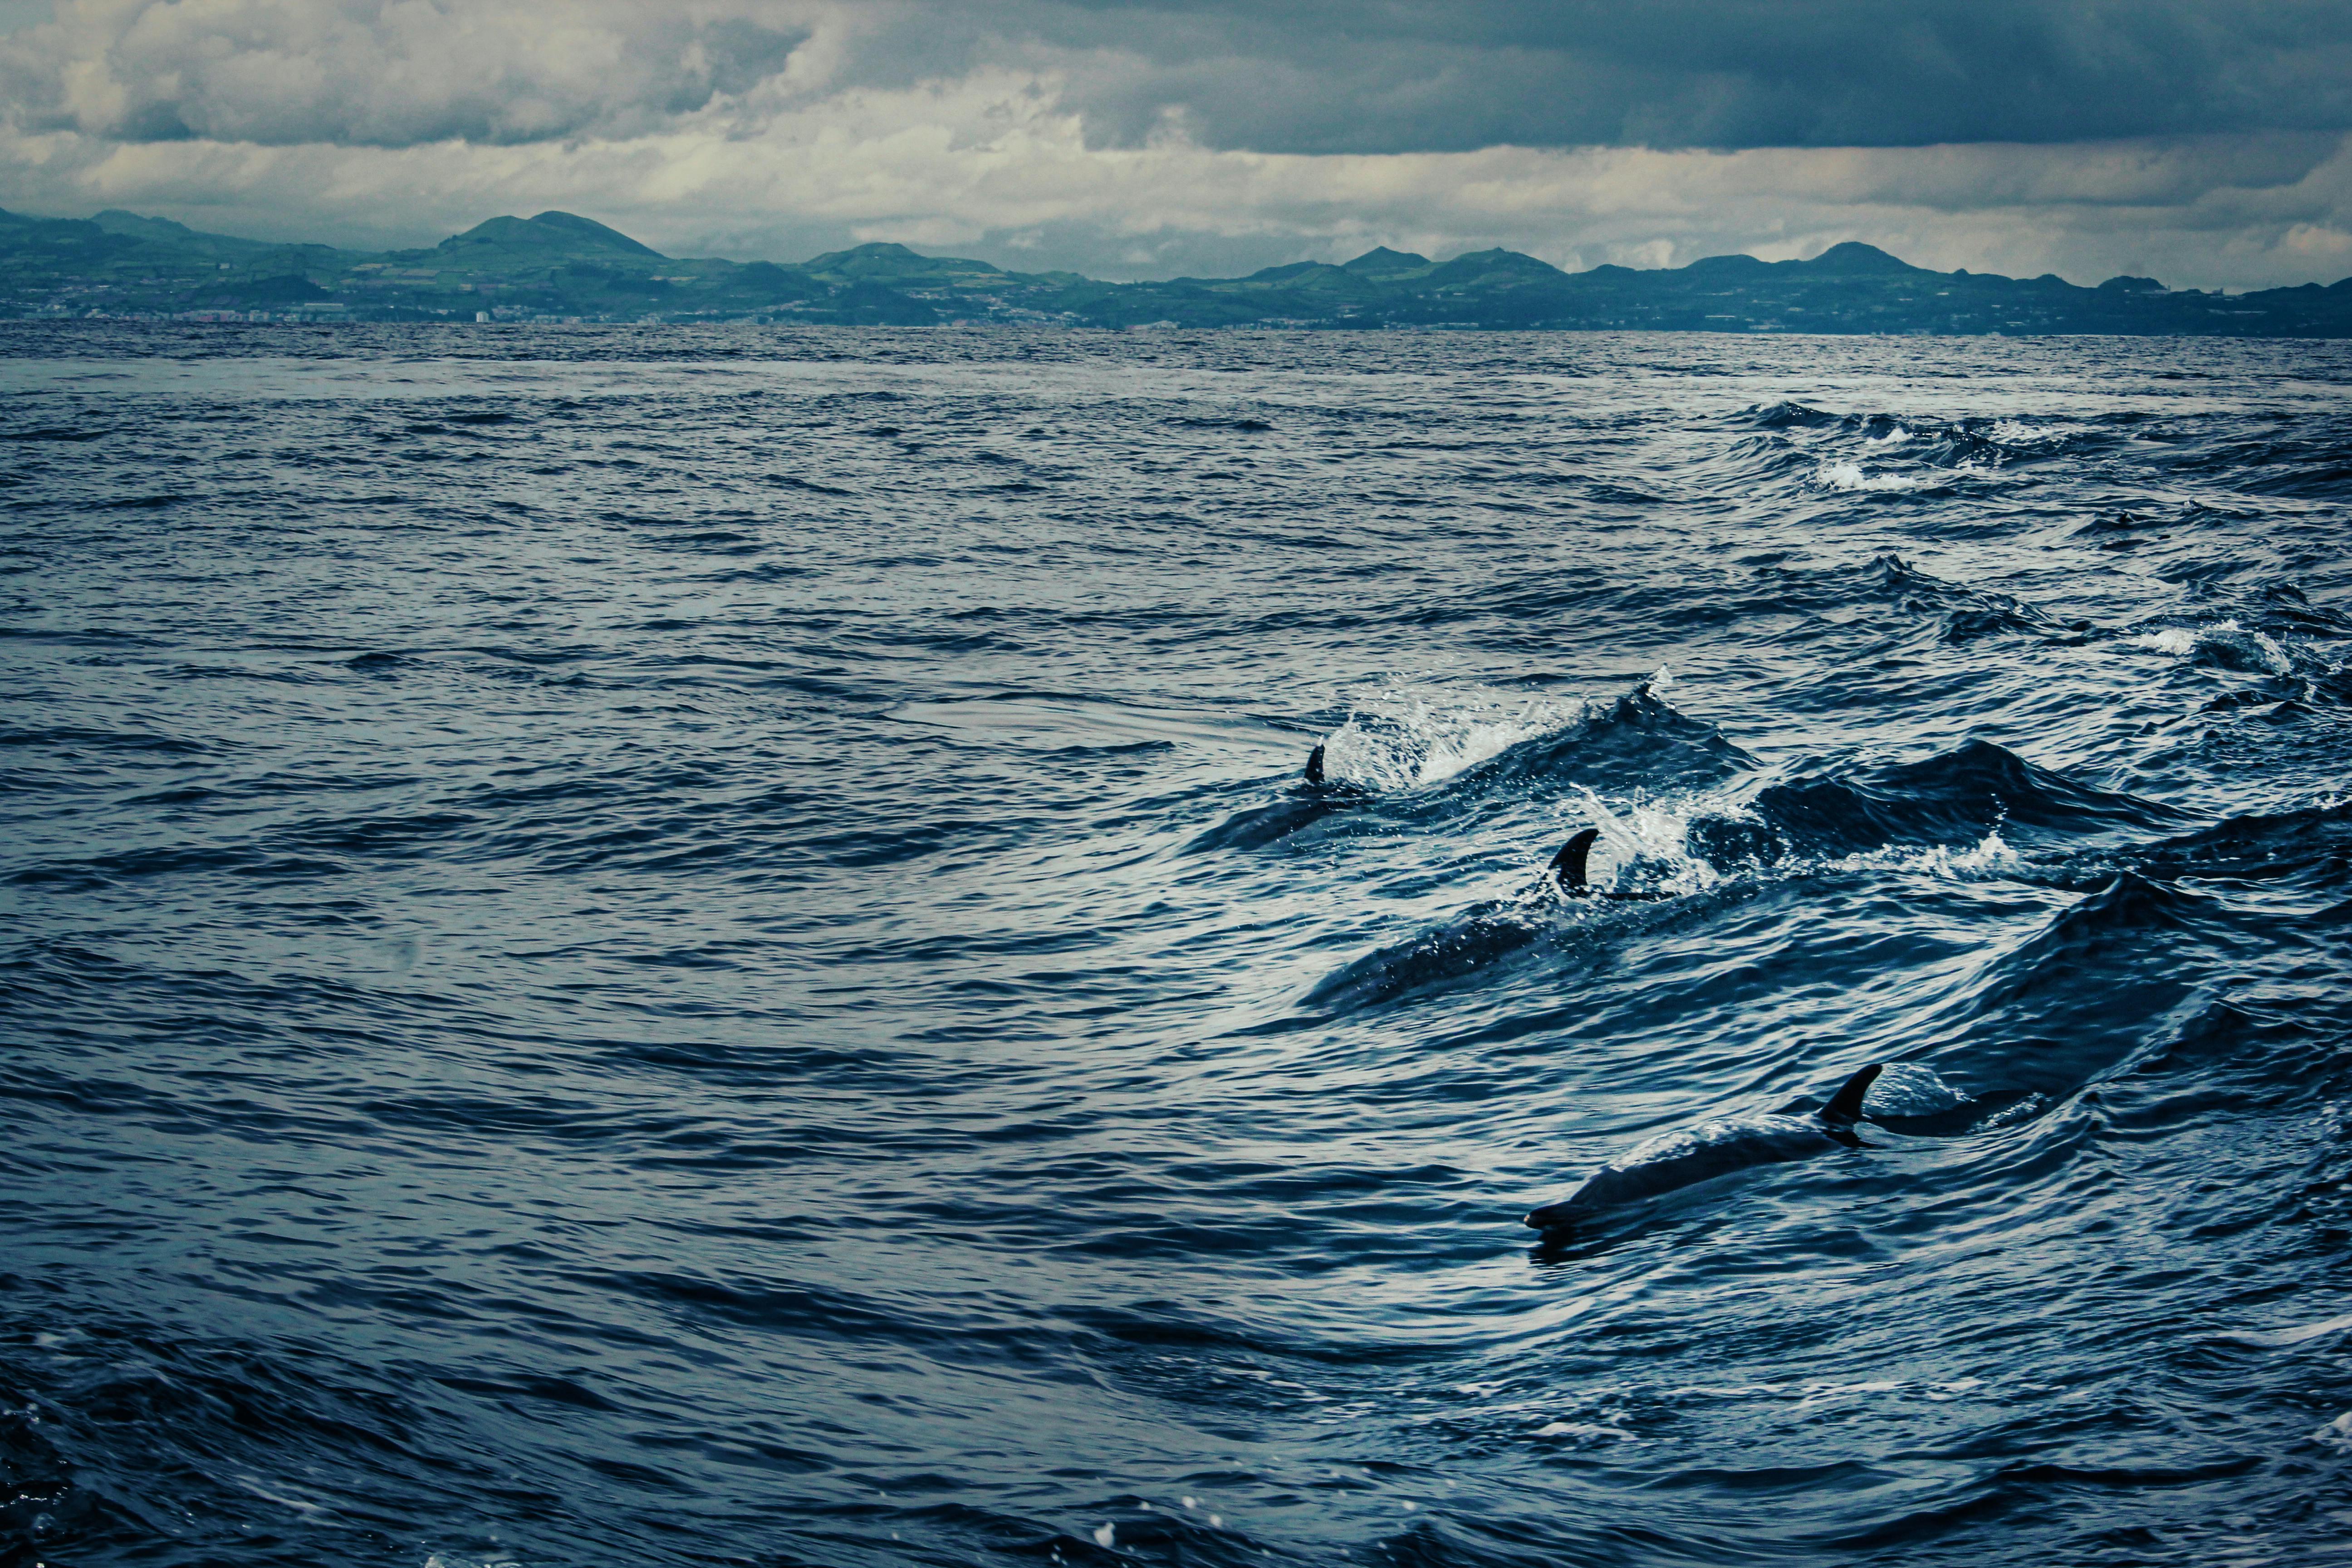dolphin: (1522, 1059, 2046, 1236)
